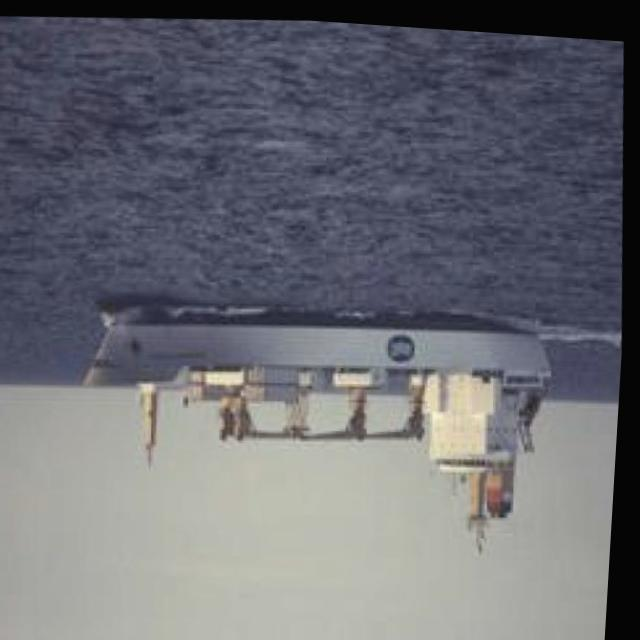ship2: (87, 298, 557, 544)
